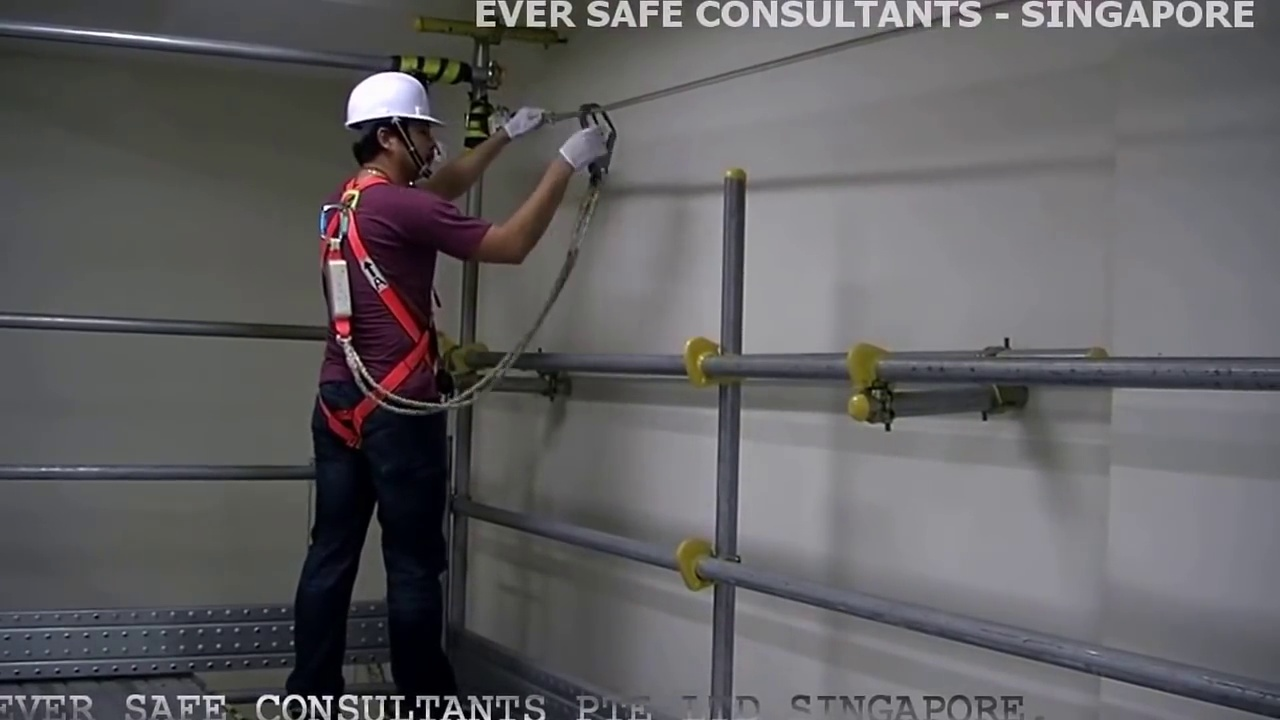harness: (306, 186, 415, 431)
helmet: (340, 71, 437, 121)
hook: (574, 103, 617, 179)
leash: (454, 259, 582, 408)
